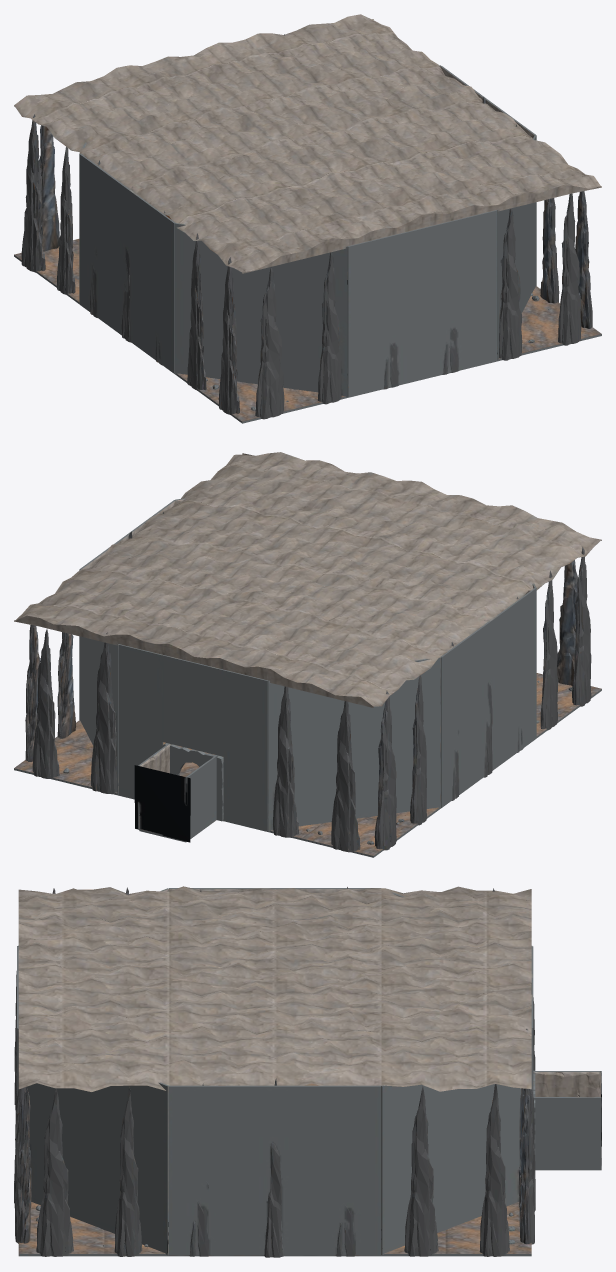
File: room.glb
3 renders of one model, top to bottom at view 1: azimuth 30°, elevation 25°; view 2: azimuth 150°, elevation 25°; view 3: azimuth 270°, elevation 25°, orthographic. The views are drawn at different scales.
Parts seen in each view (by area): view 1: VOLCANO-BOTTOM; view 2: VOLCANO-BOTTOM; view 3: VOLCANO-BOTTOM.
Part boxes in pixels (<box>): VOLCANO-BOTTOM: <box>14,14,601,423</box>; VOLCANO-BOTTOM: <box>14,452,601,857</box>; VOLCANO-BOTTOM: <box>14,886,601,1257</box>.
Size of the model in its own units: 20.43 by 8.79 by 25.22.
Materials: 1 (1 with a texture image).
